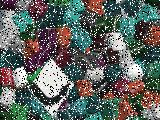Left: (28, 58, 74, 116)
